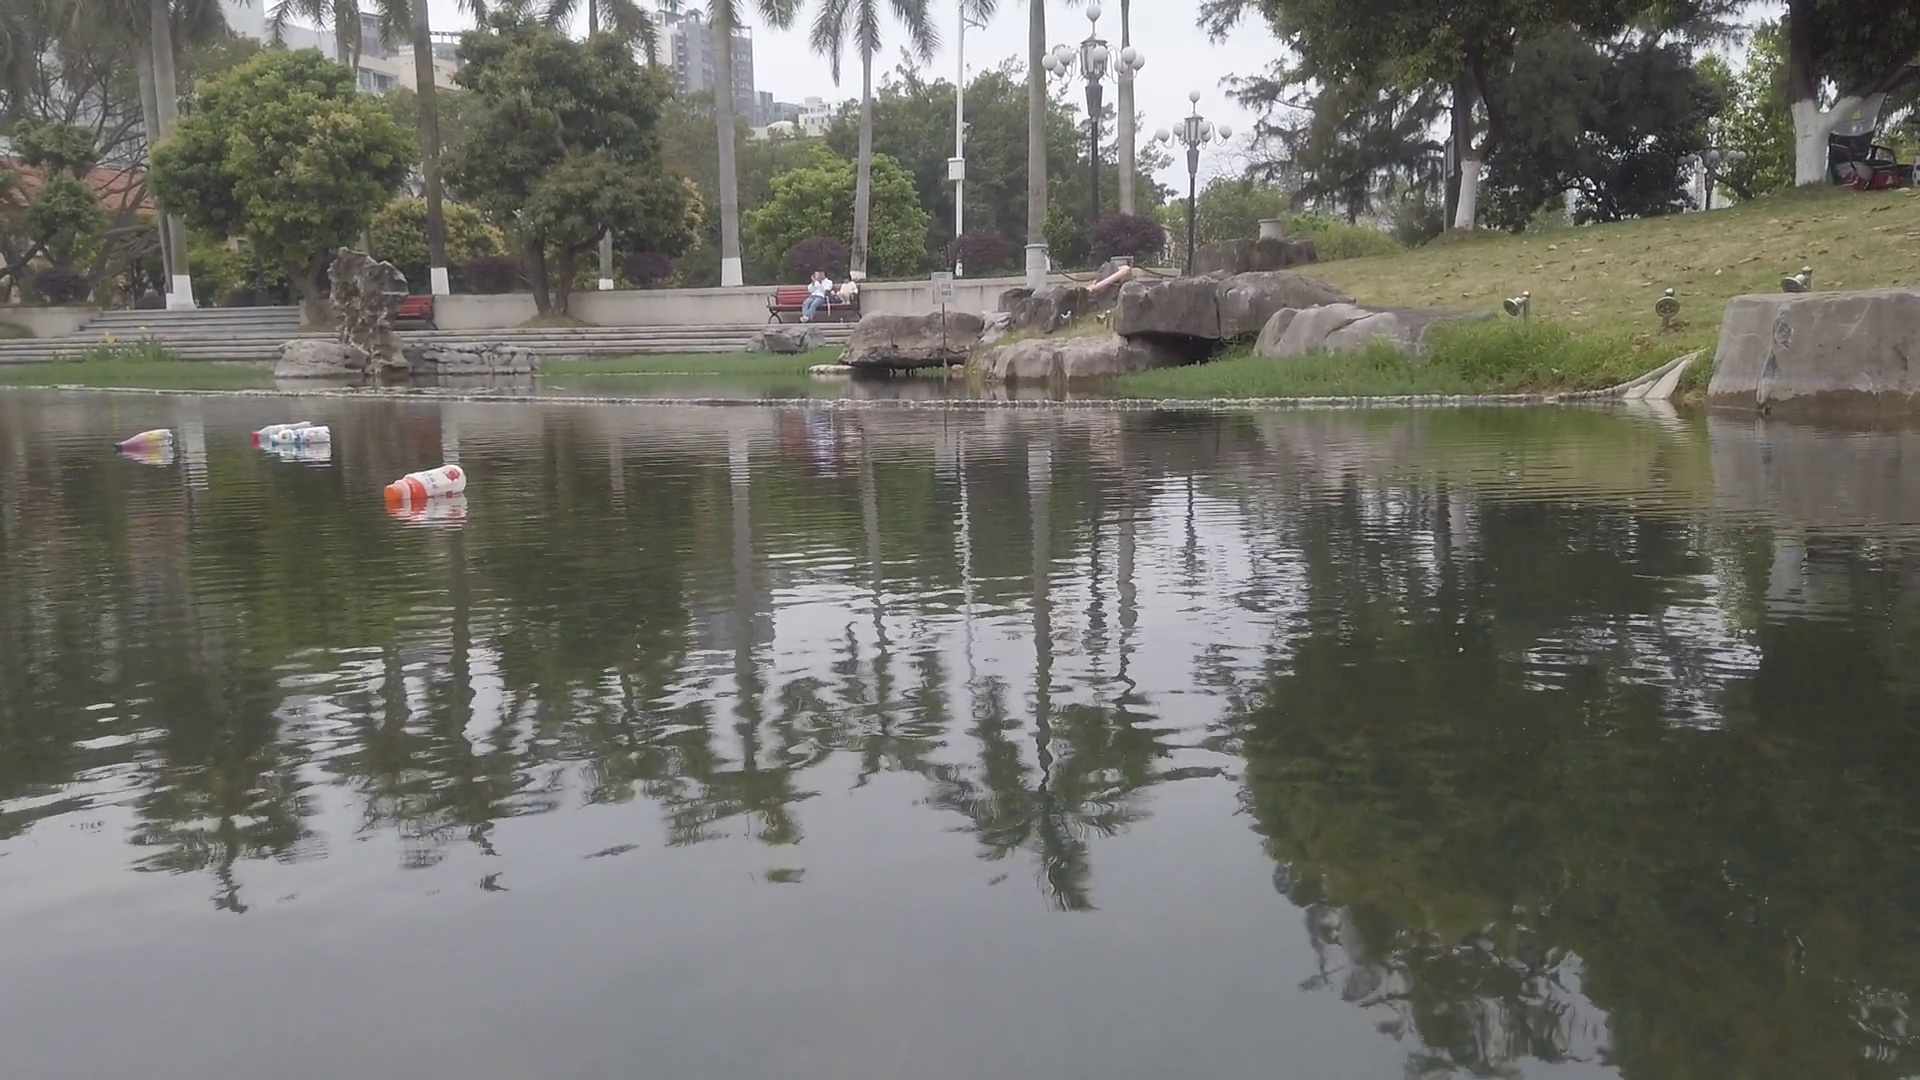bottle: (386, 464, 469, 502), (111, 426, 173, 451), (249, 422, 311, 447), (272, 427, 330, 448)
